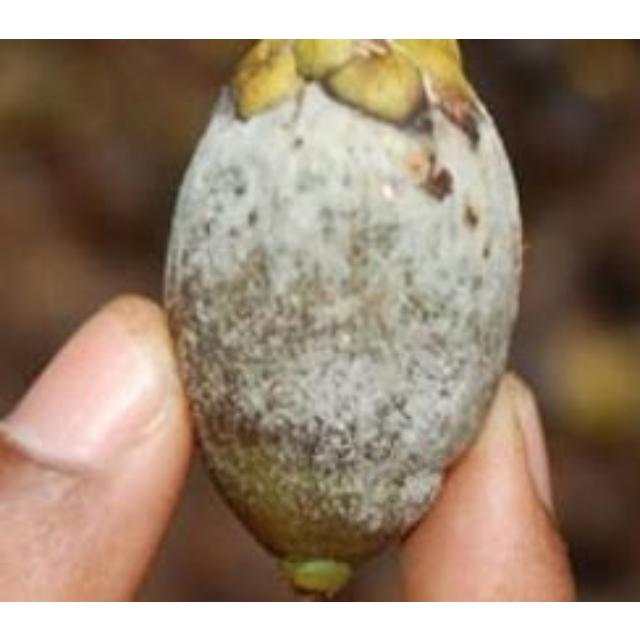damaged: (160, 38, 519, 599)
